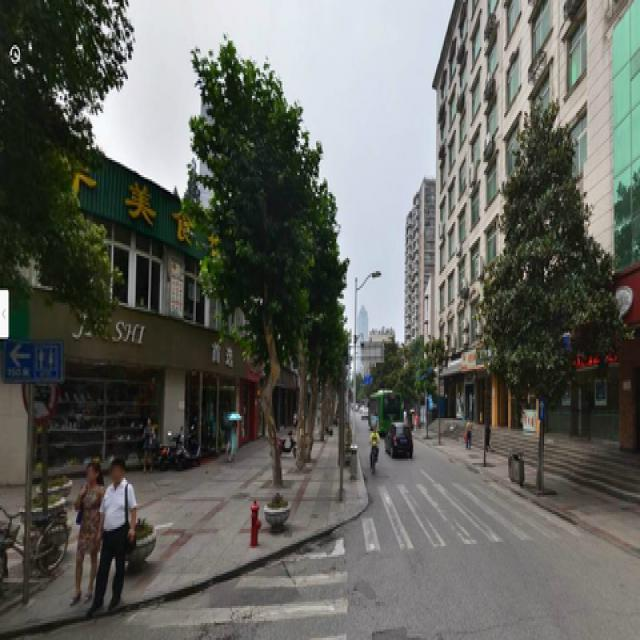meta: (184, 47, 321, 478)
